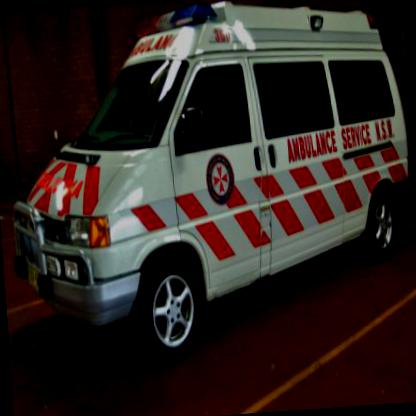truck: (0, 0, 415, 373)
